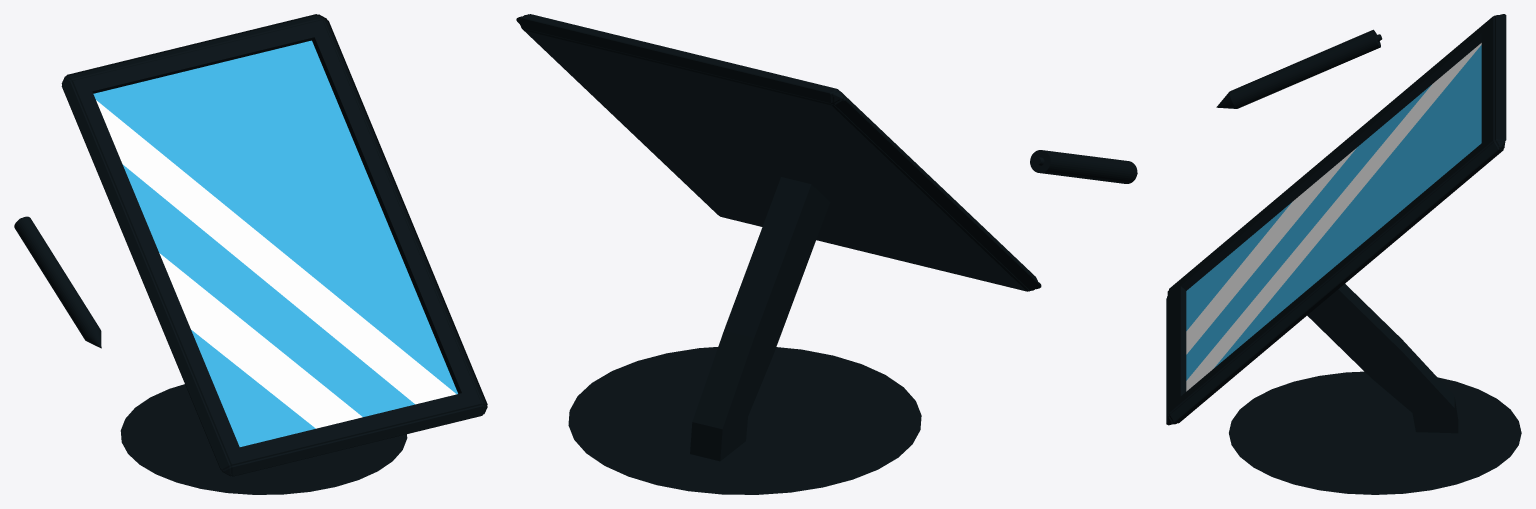
The model's file is Tablet.glb.
3 views of the same model, side by side, from view 1: azimuth 30°, elevation 25°; view 2: azimuth 150°, elevation 25°; view 3: azimuth 270°, elevation 25° (orthographic). The views are drawn at different scales.
Parts seen in each view (by area): view 1: Plano; view 2: Plano; view 3: Plano.
Part boxes in pixels (<box>): Plano: <box>14,14,487,494</box>; Plano: <box>516,14,1137,494</box>; Plano: <box>1166,14,1521,494</box>.
Size of the model in its own units: 5.66 by 5 by 4.57.
